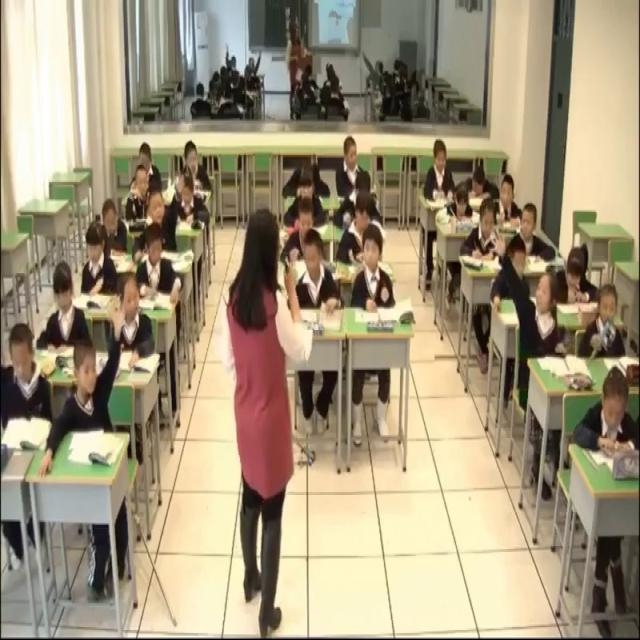focused: (575, 364, 638, 454), (1, 324, 49, 426), (109, 268, 158, 365), (582, 280, 628, 368), (136, 228, 186, 308), (351, 220, 394, 311), (294, 226, 340, 311), (40, 264, 86, 345), (457, 197, 504, 263), (554, 246, 601, 309), (82, 220, 121, 295), (338, 190, 377, 264), (285, 169, 327, 236), (282, 203, 322, 268), (512, 203, 554, 263), (491, 239, 530, 303), (174, 165, 212, 229), (421, 136, 456, 205), (496, 169, 528, 237), (462, 160, 500, 214), (435, 183, 479, 229), (126, 165, 157, 228), (99, 193, 130, 255), (332, 136, 365, 192), (184, 141, 215, 197)
raising_hand: (43, 305, 126, 442), (489, 226, 563, 359), (146, 168, 185, 256)
